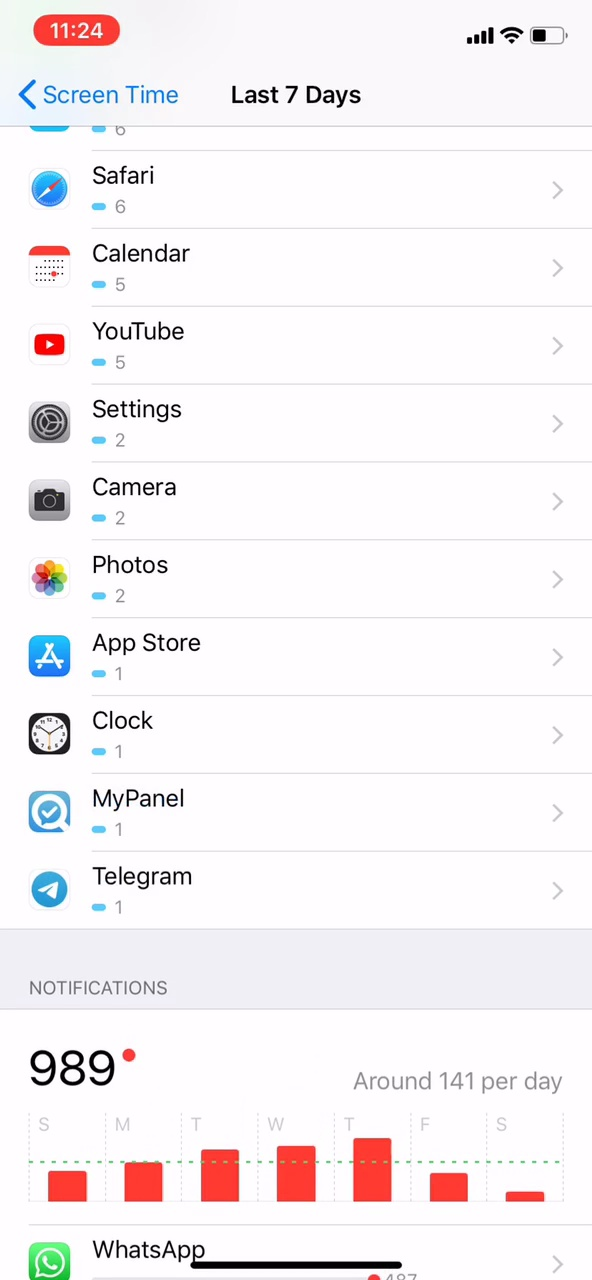not_over: (14, 957, 212, 1107)
pick_app: (18, 385, 237, 460), (17, 628, 245, 696), (17, 464, 214, 538), (17, 777, 220, 847), (17, 227, 218, 297), (20, 547, 222, 608), (20, 150, 186, 219), (17, 708, 195, 771), (23, 314, 222, 369), (18, 857, 215, 911)
week: (223, 75, 372, 111)
